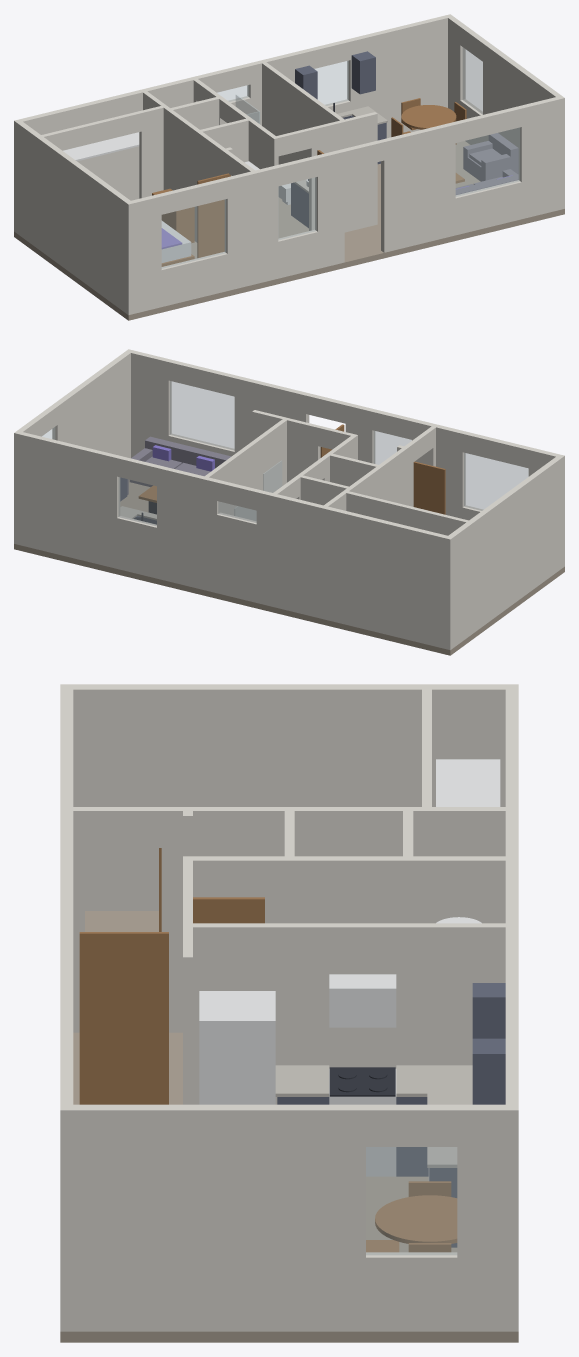
Rendered from adu-495.glb.
The picture shows the model from 3 angles, top to bottom: view 1: azimuth 30°, elevation 25°; view 2: azimuth 150°, elevation 25°; view 3: azimuth 270°, elevation 25°; orthographic projection. The views are drawn at different scales.
Parts seen in each view (by area): view 1: wall_west_0, wall_south_6, wall_north_4, wall_south_2, floor_slab, wall_north_0, wall_south_8, wall_south_0, wall_bed_east_0, wall_bath_east_0, wall_south_glass7, wall_south_glass1 (+37 smaller); view 2: wall_north_0, wall_west_0, wall_north_4, wall_north_2, wall_east_2, floor_slab, wall_bath_east_0, wall_south_8, wall_south_glass7, wall_north_sill1, wall_south_6, wall_bed_east_0 (+28 smaller); view 3: wall_east_2, wall_west_0, wall_bath_east_0, wall_bed_east_0, door_entry, wall_east_0, floor_slab, wall_east_glass1, refrigerator, wall_east_sill1, wall_util_east_4, wall_north_4 (+25 smaller).
Boxes of the visible parts, bbox=[...] form: wall_west_0: bbox=[17, 121, 130, 312]; wall_south_6: bbox=[381, 122, 455, 252]; wall_north_4: bbox=[347, 14, 453, 138]; wall_south_2: bbox=[224, 165, 278, 290]; floor_slab: bbox=[14, 141, 564, 320]; wall_north_0: bbox=[14, 73, 210, 233]; wall_south_8: bbox=[518, 95, 564, 218]; wall_south_0: bbox=[125, 194, 161, 315]; wall_bed_east_0: bbox=[143, 91, 232, 242]; wall_bath_east_0: bbox=[262, 62, 346, 232]; wall_south_glass7: bbox=[456, 127, 519, 196]; wall_south_glass1: bbox=[162, 199, 225, 268]; wall_north_0: bbox=[256, 490, 453, 650]; wall_west_0: bbox=[448, 456, 561, 647]; wall_north_4: bbox=[14, 430, 120, 568]; wall_north_2: bbox=[157, 465, 220, 593]; wall_east_2: bbox=[52, 351, 130, 458]; floor_slab: bbox=[14, 480, 564, 655]; wall_bath_east_0: bbox=[205, 417, 288, 520]; wall_south_8: bbox=[125, 349, 171, 457]; wall_south_glass7: bbox=[170, 381, 234, 450]; wall_north_sill1: bbox=[217, 512, 256, 602]; wall_south_6: bbox=[234, 376, 309, 453]; wall_bed_east_0: bbox=[324, 442, 413, 510]; wall_east_2: bbox=[73, 1104, 365, 1331]; wall_west_0: bbox=[73, 684, 505, 910]; wall_bath_east_0: bbox=[183, 923, 505, 1104]; wall_bed_east_0: bbox=[161, 807, 505, 1032]; door_entry: bbox=[79, 932, 168, 1104]; wall_east_0: bbox=[457, 1104, 505, 1331]; floor_slab: bbox=[60, 911, 518, 1342]; wall_east_glass1: bbox=[366, 1147, 456, 1254]; refrigerator: bbox=[199, 991, 275, 1104]; wall_east_sill1: bbox=[366, 1252, 457, 1331]; wall_util_east_4: bbox=[183, 856, 316, 923]; wall_north_4: bbox=[505, 1009, 518, 1331].
Bounding box in the file's own units: 10.06 × 2.56 × 4.57.
